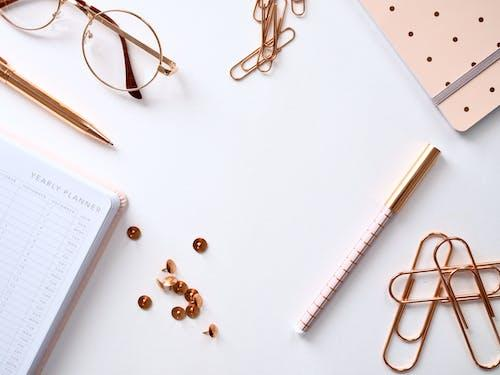eyeglasses: (0, 0, 182, 104)
